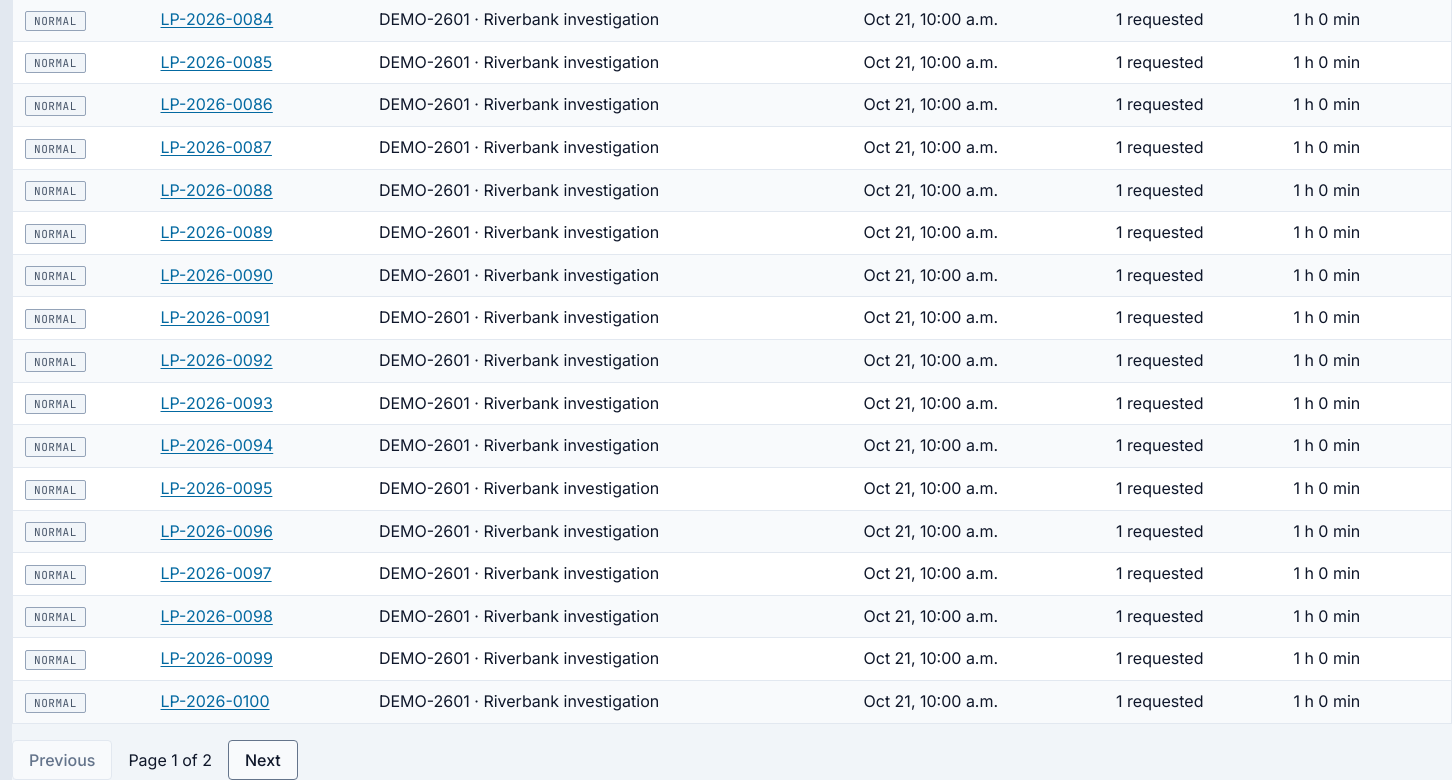
it: Lab Testing → Worklist while a page is loading › steps back to the last page when the asked page no longer exists
The width and height of the screenshot is (1452, 780).
(page scrolled)
Click the button "Next".
click(263, 760)  # box 228,740 -> 298,779
(page scrolled)
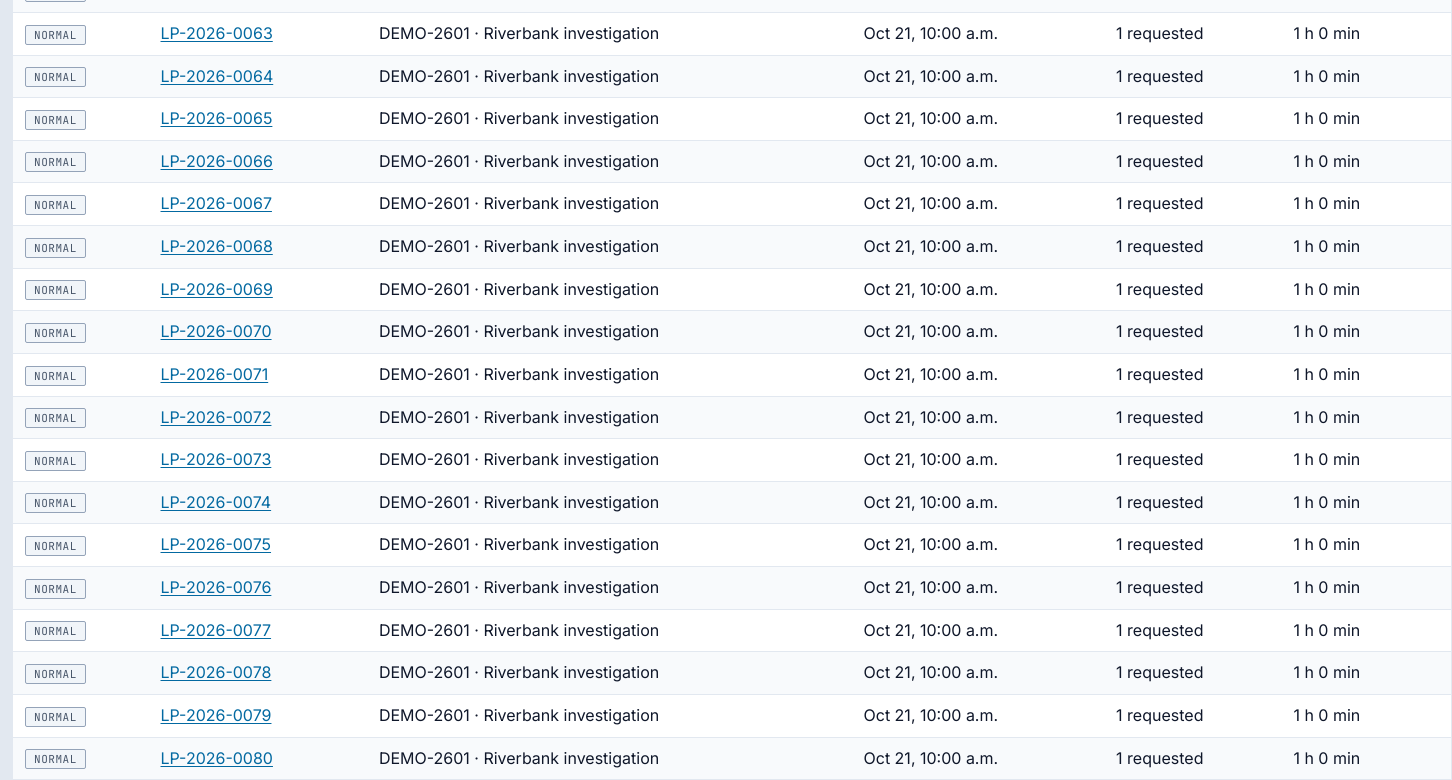
Expected: the link "LP-2026-0080" is shown, 160,748 -> 273,768
Now the navigation bar "Pages" is gone
